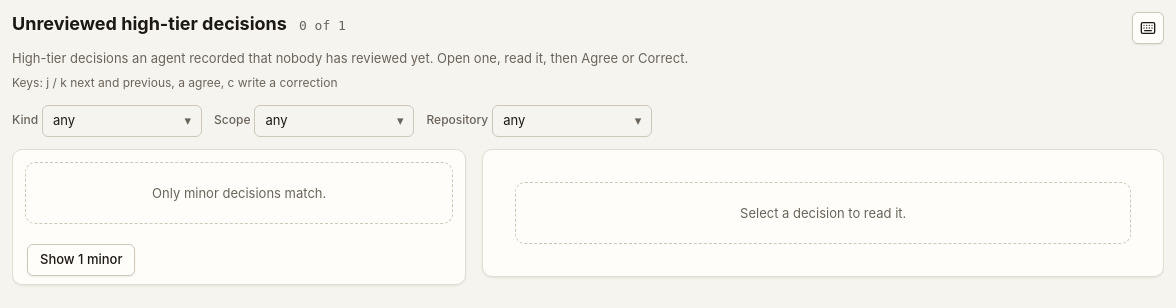
Test: the Decisions page shows major decisions and offers the minor ones › says so when every matching decision is minor, and still offers them
This screenshot has width=1176, height=308.
Expected: the text "Only minor decisions match." is shown, top-left (25, 162), bottom-right (453, 224)
Click the button "Show 1 minor". click: (81, 260)
box: top-left (27, 244), bottom-right (136, 276)
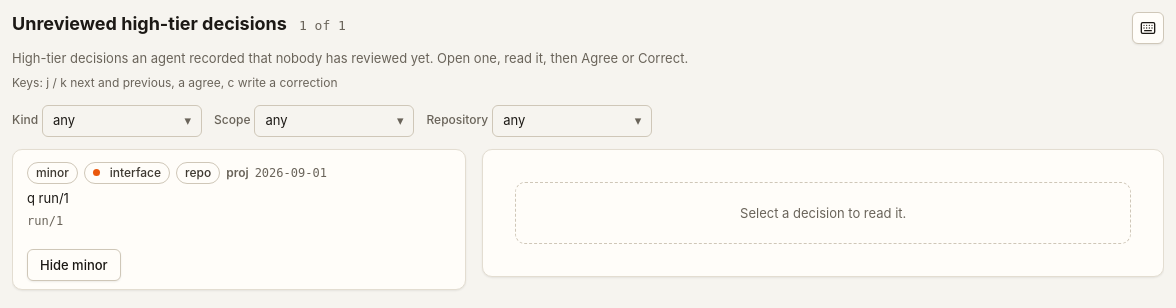
Result: the number of list items is 1 at top-left (13, 150), bottom-right (465, 241)
